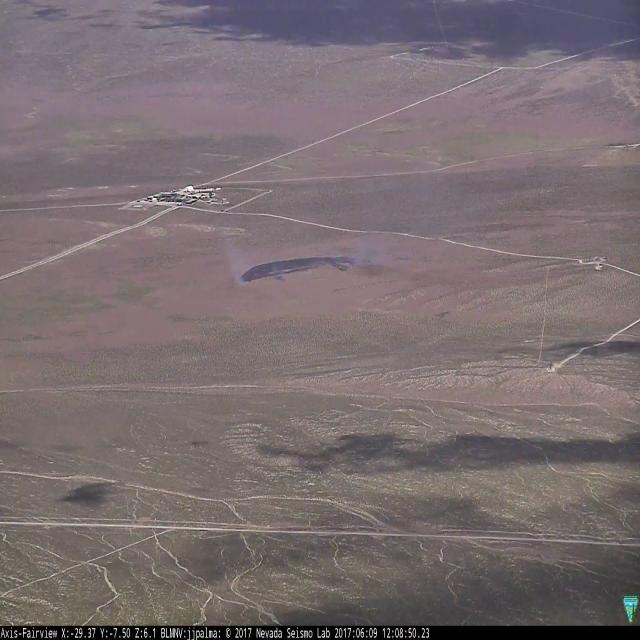smoke: (214, 182, 392, 285)
